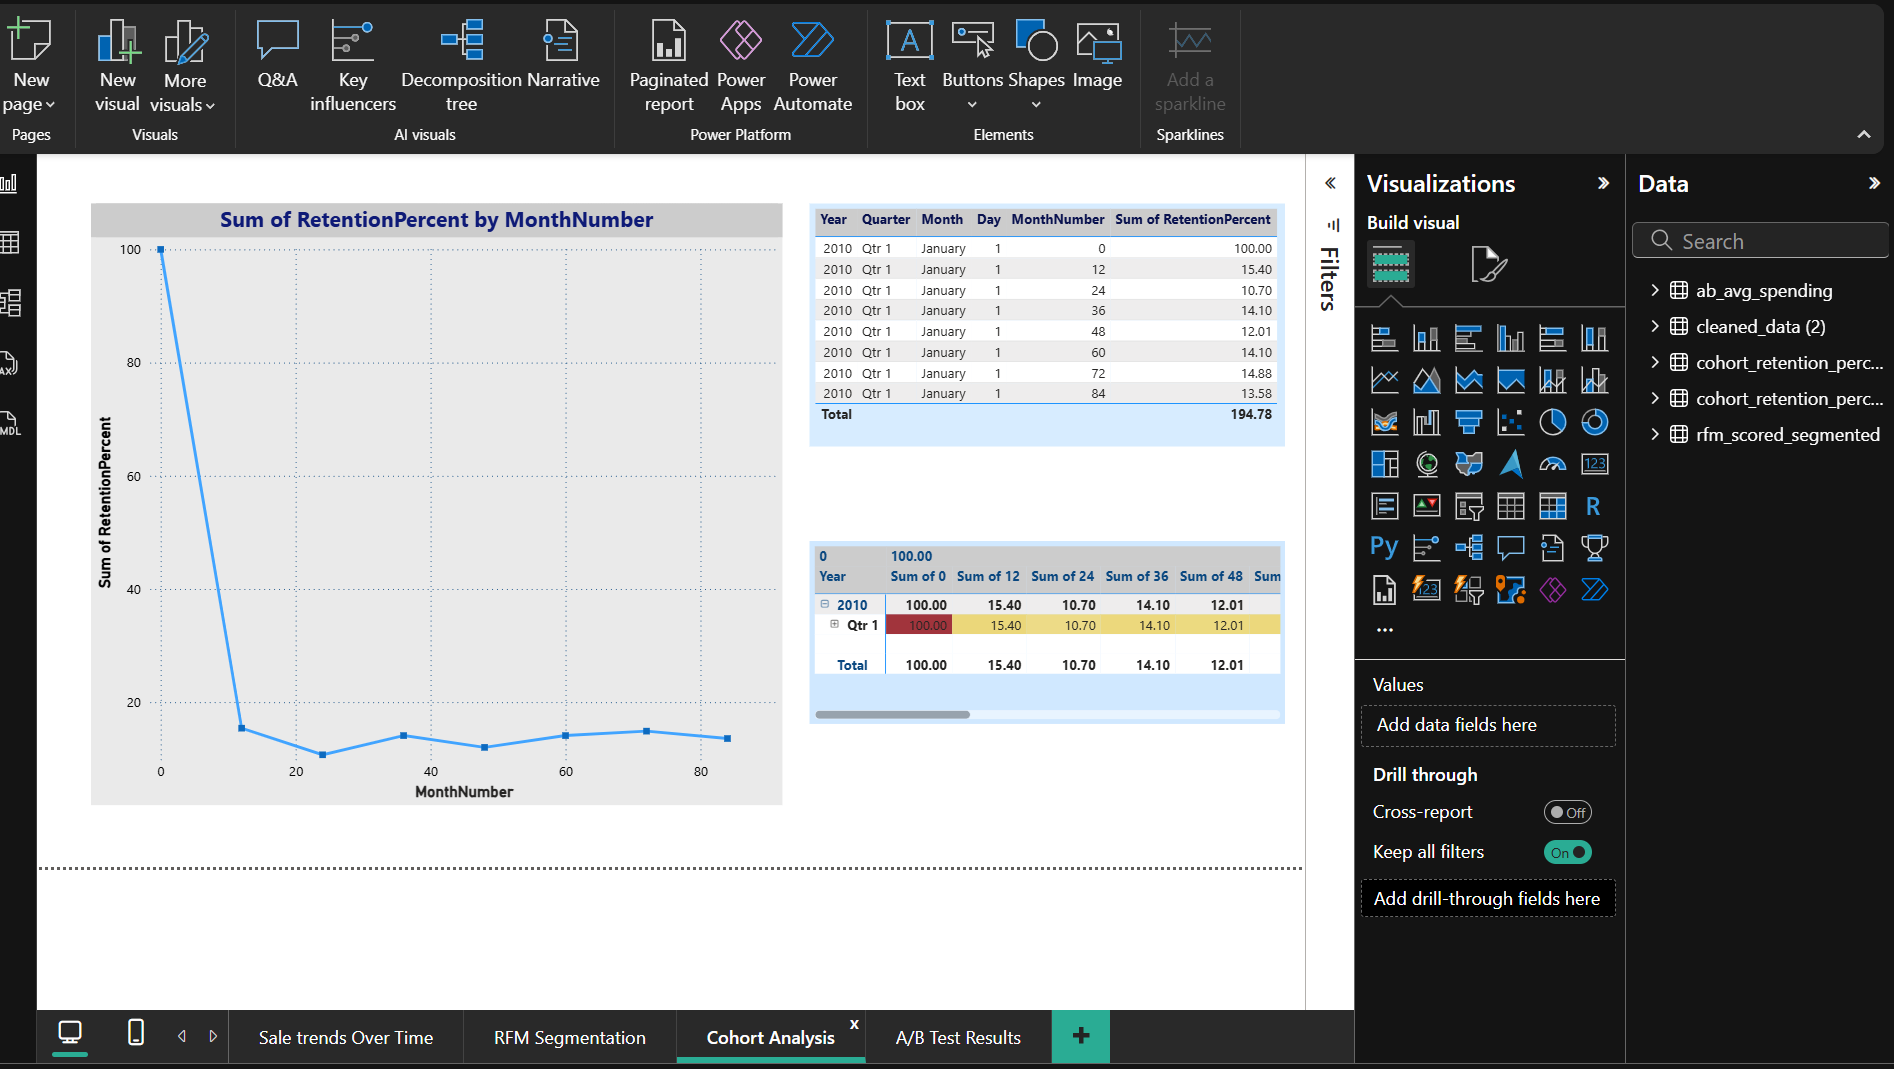

The page's visual inventory and layout, read from the dashboard file:
{"tool":"powerbi","page":{"name":"Cohort Analysis","canvas":[1280,720],"ordinal":2},"visuals":[{"type":"lineChart","fields":{"Category":["cohort_retention_percent.MonthNumber"],"Y":["Sum(cohort_retention_percent.RetentionPercent)"]},"box":[54.5,50,698,607.2],"z":0},{"type":"pivotTable","fields":{"Rows":["cohort_retention_percent (2).CohortMonth.Variation.Date Hierarchy.Year","cohort_retention_percent (2).CohortMonth.Variation.Date Hierarchy.Quarter","cohort_retention_percent (2).CohortMonth.Variation.Date Hierarchy.Month","cohort_retention_percent (2).CohortMonth.Variation.Date Hierarchy.Day"],"Columns":["cohort_retention_percent (2).0","cohort_retention_percent (2).12","cohort_retention_percent (2).24","cohort_retention_percent (2).36","cohort_retention_percent (2).48","cohort_retention_percent (2).60","cohort_retention_percent (2).72","cohort_retention_percent (2).84"],"Values":["Sum(cohort_retention_percent (2).0)","Sum(cohort_retention_percent (2).12)","Sum(cohort_retention_percent (2).24)","Sum(cohort_retention_percent (2).36)","Sum(cohort_retention_percent (2).48)","Sum(cohort_retention_percent (2).60)","Sum(cohort_retention_percent (2).72)","Sum(cohort_retention_percent (2).84)"]},"box":[779.8,390.7,480,184.7],"z":1000},{"type":"tableEx","fields":{"Values":["cohort_retention_percent.CohortMonth.Variation.Date Hierarchy.Year","cohort_retention_percent.CohortMonth.Variation.Date Hierarchy.Quarter","cohort_retention_percent.CohortMonth.Variation.Date Hierarchy.Month","cohort_retention_percent.CohortMonth.Variation.Date Hierarchy.Day","cohort_retention_percent.MonthNumber","Sum(cohort_retention_percent.RetentionPercent)"]},"box":[779.8,50,480,245.3],"z":2000}]}

Visuals, with their boxes on the page's 1280x720 design canvas (x1, y1, x2, y2). These are canvas units, not pixel positions in the 1894x1069 screenshot, which may show the page scaled, cropped or inside an application window:
lineChart - cohort_retention_percent.MonthNumber x Sum(cohort_retention_percent.RetentionPercent): select_region(54, 50, 752, 657)
pivotTable - cohort_retention_percent (2).CohortMonth.Variation.Date Hierarchy.Year x cohort_retention_percent (2).CohortMonth.Variation.Date Hierarchy.Quarter: select_region(780, 391, 1260, 575)
tableEx - cohort_retention_percent.CohortMonth.Variation.Date Hierarchy.Year x cohort_retention_percent.CohortMonth.Variation.Date Hierarchy.Quarter: select_region(780, 50, 1260, 295)
